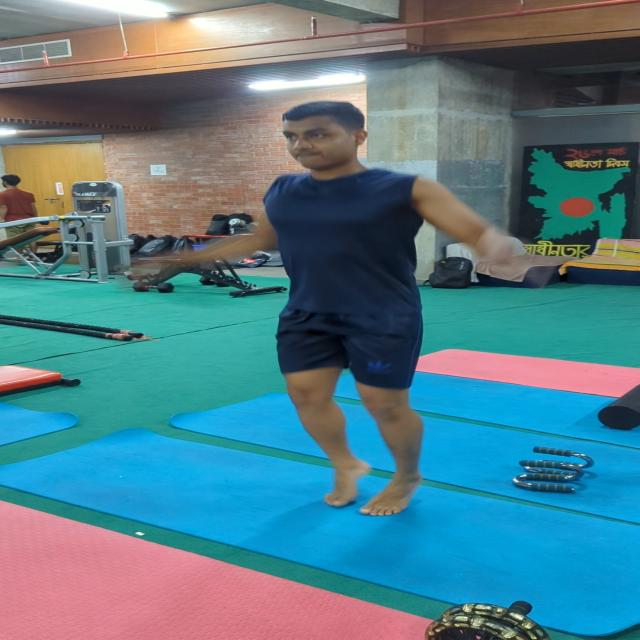Normal_JumpingJacks: (164, 84, 523, 534)
